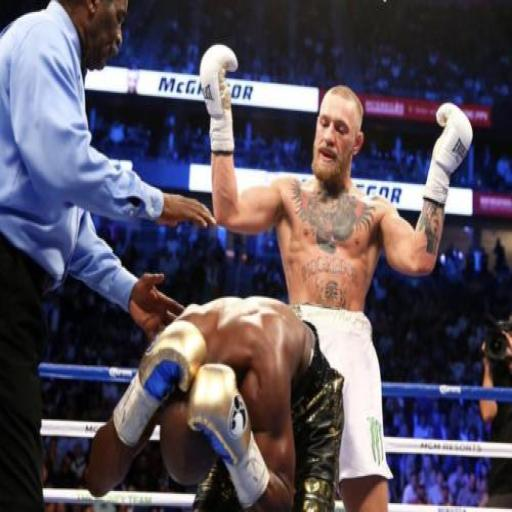boxing: (162, 38, 496, 512), (58, 267, 368, 512)
